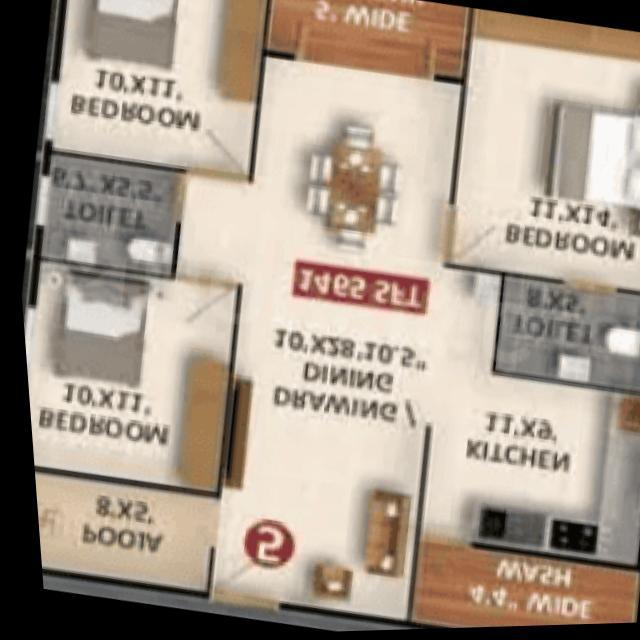Balcony-Sitout: (266, 0, 468, 84)
Bedroom: (21, 257, 233, 495), (48, 0, 268, 180)
Bedroom with Toilet: (439, 11, 640, 400)
Dining: (295, 113, 411, 267)
Enterance-Foyer: (197, 528, 288, 613)
Kitchen: (409, 369, 640, 572)
Living: (196, 289, 434, 630)
Pooja: (27, 472, 206, 594)
Toilet: (489, 278, 640, 397), (35, 154, 181, 276)
Utility: (399, 540, 630, 631)
